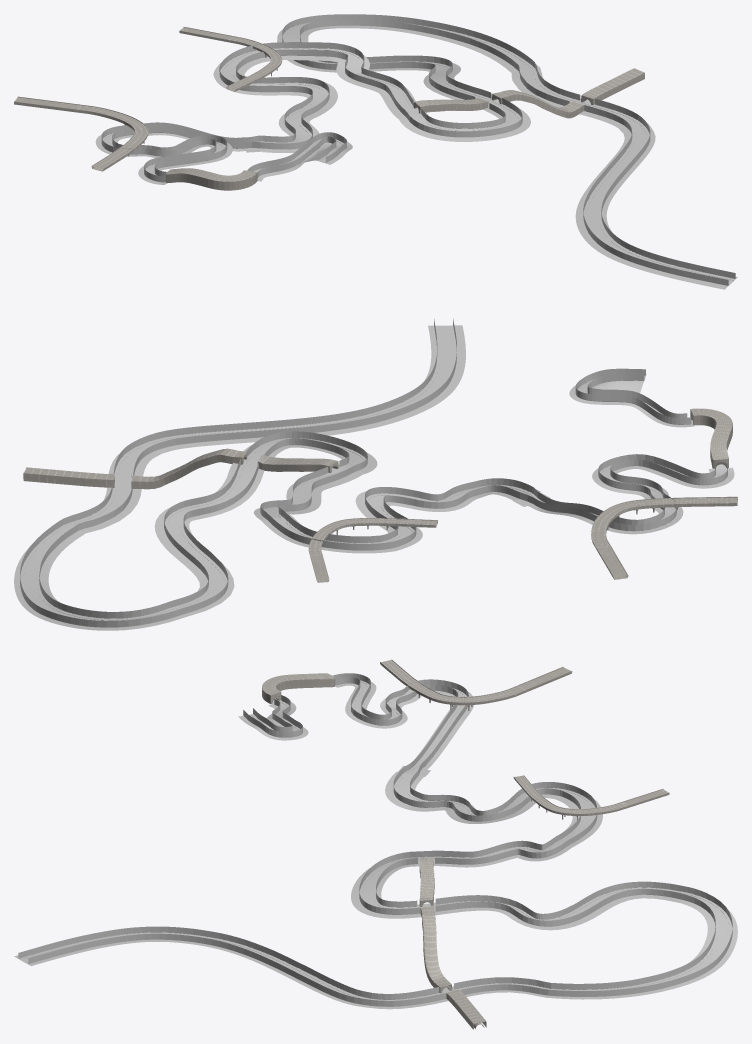
The model's file is city1-1.fbx.
The picture shows the model from 3 angles, top to bottom: view 1: azimuth 30°, elevation 25°; view 2: azimuth 150°, elevation 25°; view 3: azimuth 270°, elevation 25°; orthographic projection. The views are drawn at different scales.
Visible parts, largest first — view 1: invisible_wall, buffer_part02, track_part02, tunnel02, polySurface22, buffer_part01, tunnel, bridge02, guard_right_part02, guard_left_part02; view 2: invisible_wall, buffer_part02, track_part02, tunnel02, buffer_part01, polySurface22, bridge02, tunnel, guard_left_part02, guard_right_part02; view 3: invisible_wall, buffer_part02, track_part02, tunnel02, buffer_part01, polySurface22, bridge02, tunnel, guard_right_part02, track_part01, guard_left_part02.
Part boxes in pixels (<box>): invisible_wall: <box>101,14,735,285</box>; buffer_part02: <box>213,22,737,289</box>; track_part02: <box>220,23,734,285</box>; tunnel02: <box>413,68,644,118</box>; polySurface22: <box>14,96,148,171</box>; buffer_part01: <box>95,133,352,184</box>; tunnel: <box>166,168,257,190</box>; bridge02: <box>179,26,282,91</box>; guard_right_part02: <box>236,25,728,285</box>; guard_left_part02: <box>220,21,734,278</box>; invisible_wall: <box>20,318,727,627</box>; buffer_part02: <box>14,325,540,630</box>; track_part02: <box>21,325,532,620</box>; tunnel02: <box>23,448,338,489</box>; buffer_part01: <box>528,373,734,534</box>; polySurface22: <box>591,496,737,579</box>; bridge02: <box>308,518,437,582</box>; tunnel: <box>690,408,732,468</box>; guard_left_part02: <box>20,336,532,627</box>; guard_right_part02: <box>39,325,541,618</box>; invisible_wall: <box>18,673,732,1006</box>; buffer_part02: <box>14,771,737,1009</box>; track_part02: <box>19,773,731,1000</box>; tunnel02: <box>419,857,486,1029</box>; buffer_part01: <box>238,680,473,769</box>; polySurface22: <box>380,659,572,705</box>; bridge02: <box>513,775,669,820</box>; tunnel: <box>262,673,335,703</box>; guard_right_part02: <box>18,768,715,999</box>; track_part01: <box>249,681,466,768</box>; guard_left_part02: <box>28,771,732,1006</box>.
Size of the model in its own units: 2514 by 477 by 2711.
